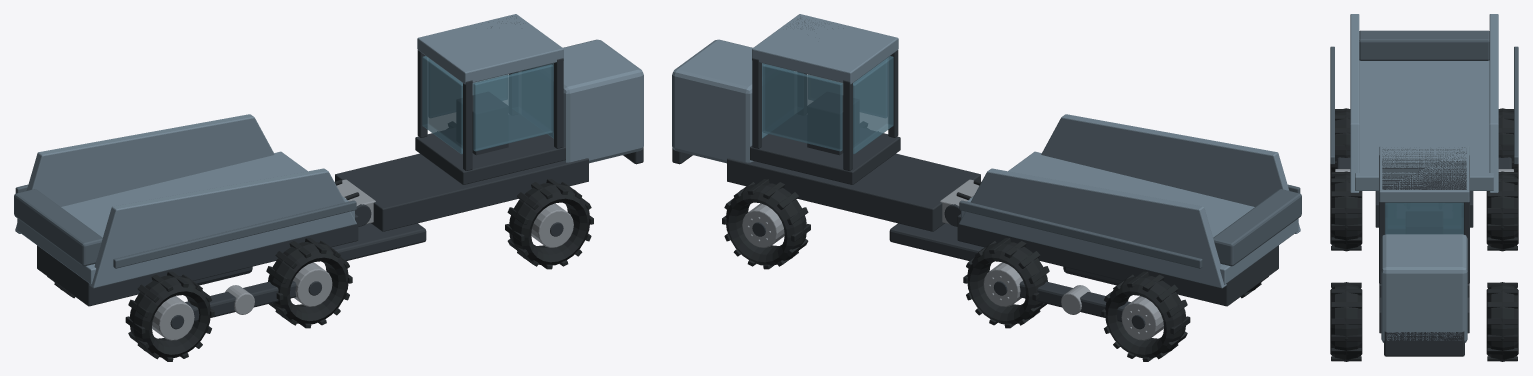
Rendered from volvo-a40j-structural-study.glb.
3 renders of one model, left to right at view 1: azimuth 30°, elevation 25°; view 2: azimuth 150°, elevation 25°; view 3: azimuth 270°, elevation 25°, orthographic. The views are drawn at different scales.
Parts seen in each view (by area): view 1: Dump_Bed_Side_R, Dump_Bed_Side_L, Front_Chassis, Front_Engine_Nose, Cab_Roof, Dump_Bed_Floor, Cab_R_Glass, Rear_Chassis, Cab_Floor, Rear_Bed_Tail_Crossmember, Front_R_Tire, Rear_R_Tire (+14 smaller); view 2: Dump_Bed_Side_L, Dump_Bed_Side_R, Front_Chassis, Front_Engine_Nose, Cab_Roof, Dump_Bed_Floor, Cab_L_Glass, Rear_Chassis, Cab_Floor, Rear_Bed_Tail_Crossmember, Front_L_Tire, Rear_L_Tire (+14 smaller); view 3: Dump_Bed_Floor, Front_Engine_Nose, Cab_Roof, Rear_Bed_Tail_Crossmember, Cab_Roof_Guard, Cab_Front_Glass, Front_Bumper, Front_L_Tire, Front_R_Tire, Dump_Bed_Side_L, Dump_Bed_Side_R, Middle_L_Tire (+26 smaller).
Boxes of the visible parts, x1=… form: Dump_Bed_Side_R: x1=89, y1=168, x2=356, y2=288; Dump_Bed_Side_L: x1=15, y1=114, x2=274, y2=233; Front_Chassis: x1=335, y1=153, x2=588, y2=231; Front_Engine_Nose: x1=549, y1=39, x2=643, y2=163; Cab_Roof: x1=417, y1=14, x2=563, y2=84; Dump_Bed_Floor: x1=17, y1=151, x2=354, y2=284; Cab_R_Glass: x1=473, y1=64, x2=553, y2=151; Rear_Chassis: x1=37, y1=214, x2=358, y2=306; Cab_Floor: x1=415, y1=114, x2=565, y2=184; Rear_Bed_Tail_Crossmember: x1=14, y1=189, x2=102, y2=266; Front_R_Tire: x1=509, y1=183, x2=589, y2=265; Rear_R_Tire: x1=129, y1=275, x2=210, y2=358; Dump_Bed_Side_L: x1=959, y1=168, x2=1226, y2=288; Dump_Bed_Side_R: x1=1041, y1=114, x2=1300, y2=233; Front_Chassis: x1=727, y1=153, x2=980, y2=231; Front_Engine_Nose: x1=672, y1=39, x2=766, y2=163; Cab_Roof: x1=752, y1=14, x2=898, y2=84; Dump_Bed_Floor: x1=961, y1=151, x2=1298, y2=284; Cab_L_Glass: x1=762, y1=64, x2=842, y2=151; Rear_Chassis: x1=957, y1=214, x2=1278, y2=306; Cab_Floor: x1=750, y1=114, x2=900, y2=184; Rear_Bed_Tail_Crossmember: x1=1213, y1=189, x2=1301, y2=266; Front_L_Tire: x1=726, y1=183, x2=806, y2=265; Rear_L_Tire: x1=1105, y1=275, x2=1186, y2=358; Dump_Bed_Floor: x1=1355, y1=60, x2=1493, y2=190; Front_Engine_Nose: x1=1381, y1=234, x2=1467, y2=342; Cab_Roof: x1=1379, y1=146, x2=1469, y2=202; Rear_Bed_Tail_Crossmember: x1=1359, y1=30, x2=1489, y2=60; Cab_Roof_Guard: x1=1382, y1=147, x2=1466, y2=189; Cab_Front_Glass: x1=1385, y1=202, x2=1463, y2=234; Front_Bumper: x1=1384, y1=331, x2=1464, y2=356; Front_L_Tire: x1=1486, y1=282, x2=1518, y2=361; Front_R_Tire: x1=1330, y1=282, x2=1362, y2=361; Dump_Bed_Side_L: x1=1489, y1=14, x2=1498, y2=192; Dump_Bed_Side_R: x1=1350, y1=14, x2=1359, y2=192; Middle_L_Tire: x1=1486, y1=171, x2=1518, y2=251.
Bounding box in the file's own units: 11.26 × 3.63 × 3.4.
